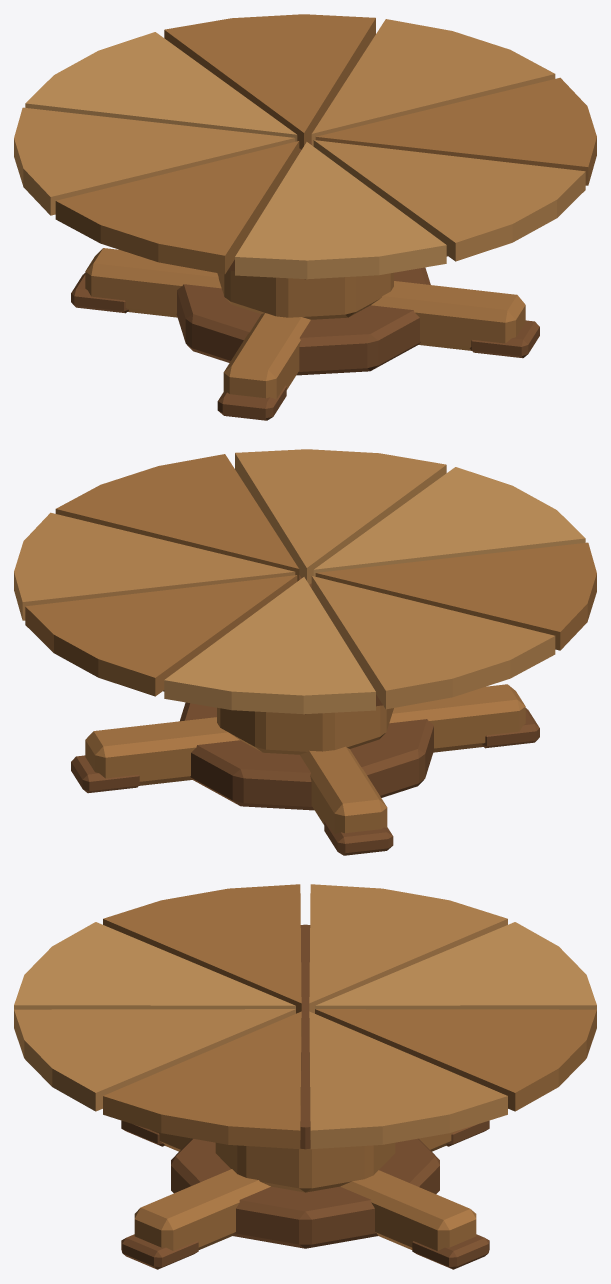
File: communal_table.glb
3 renders of one model, top to bottom at view 1: azimuth 30°, elevation 25°; view 2: azimuth 150°, elevation 25°; view 3: azimuth 270°, elevation 25°, orthographic.
Visible parts, largest first — view 1: communal_table; view 2: communal_table; view 3: communal_table.
Part boxes in pixels (x1,y1,x2,y2): communal_table: (14, 14, 596, 420); communal_table: (14, 449, 596, 855); communal_table: (14, 884, 596, 1269).
Size of the model in its own units: 1.7 by 0.6 by 1.7.
